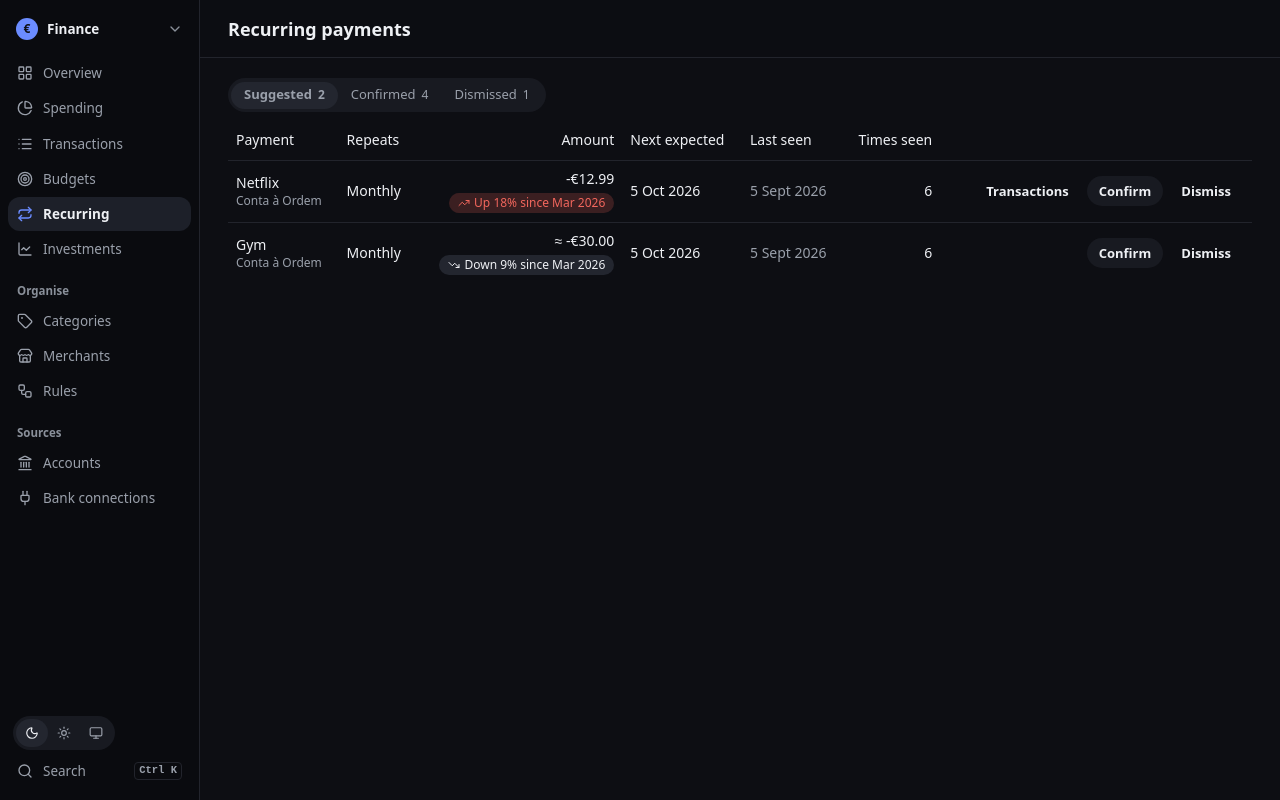
Test case: starts on the suggestions and filters by tab, with counts
The width and height of the screenshot is (1280, 800).
expect the button "Netflix" is shown: met, box [236, 173, 279, 193]
expect the button "Gym" is shown: met, box [236, 235, 266, 255]
Press the mouse on the tab "Confirmed 4" at [390, 95], box [338, 82, 442, 108]
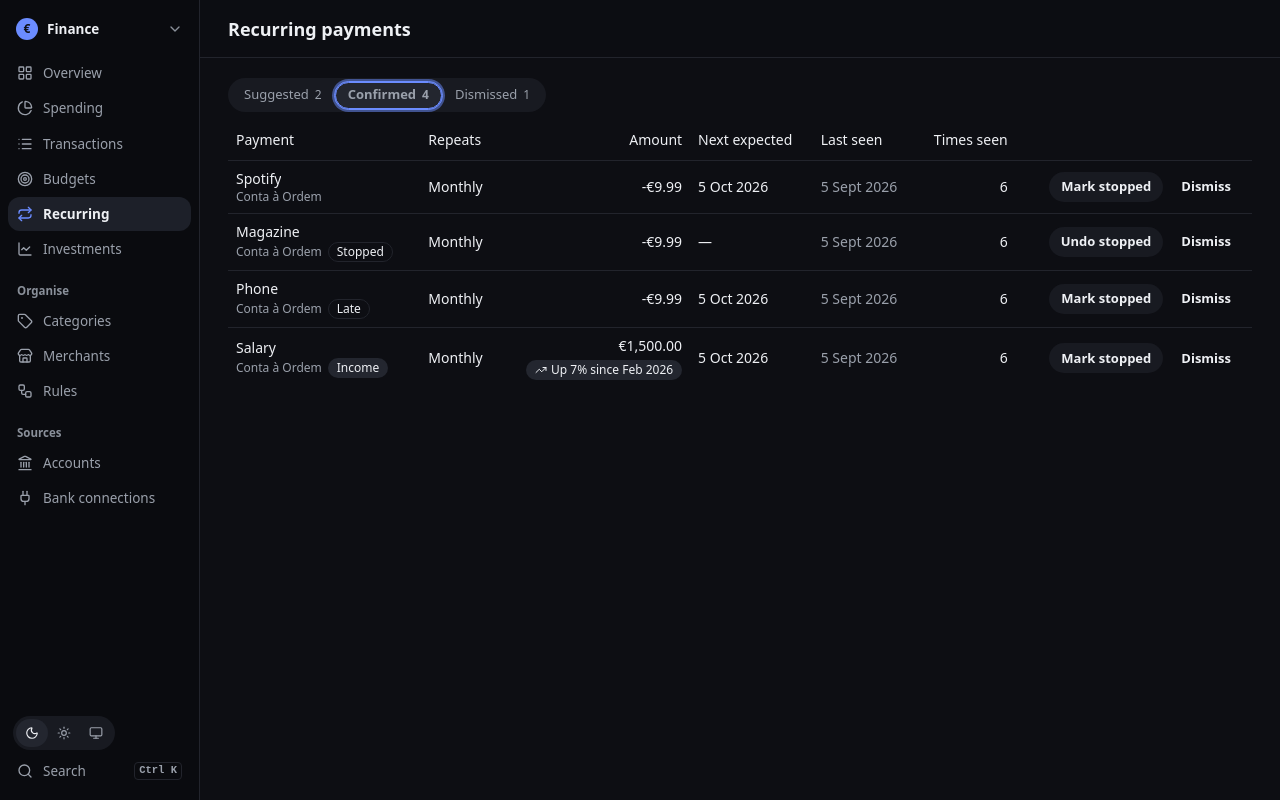
expect the button "Spotify" is shown: met, box [236, 168, 281, 188]
expect the button "Netflix" is gone: met
Press the mouse on the tab "Dismissed 1" at [493, 95], box [442, 82, 543, 108]
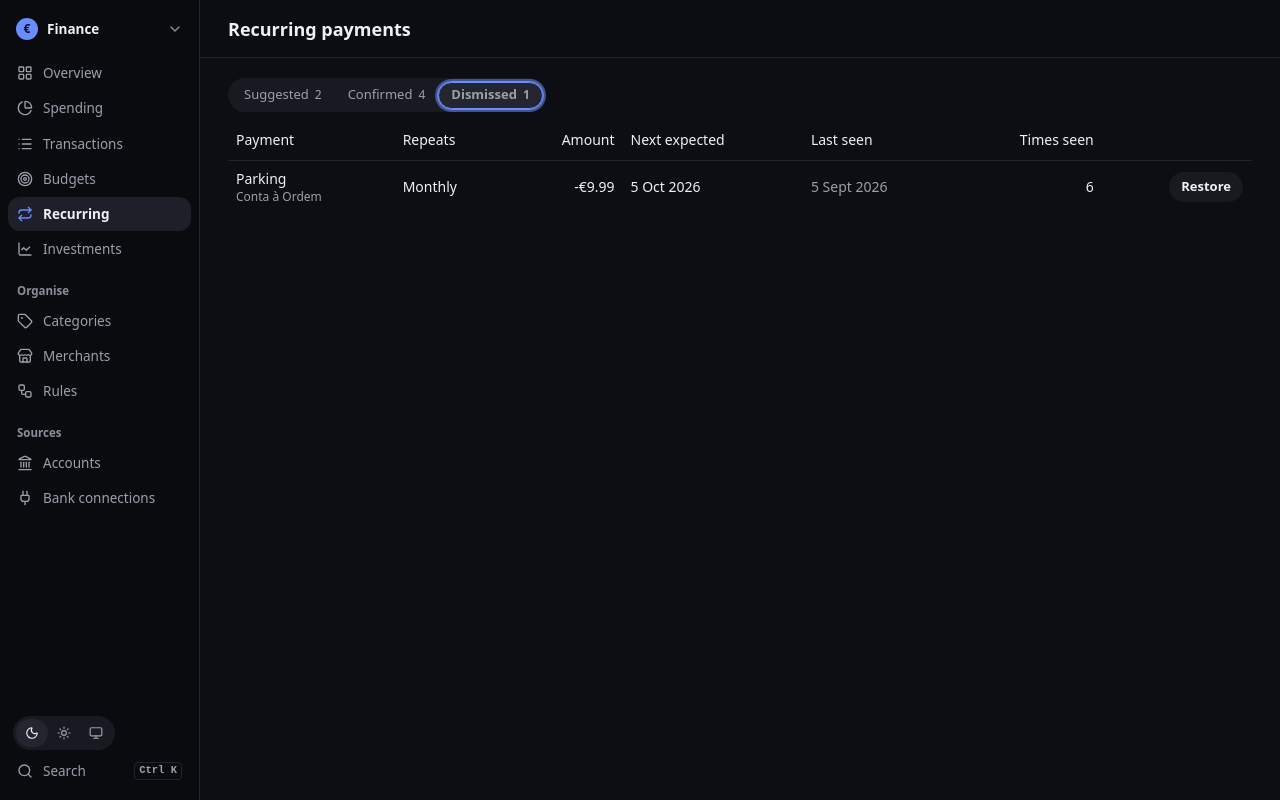
expect the button "Parking" is shown: met, box [236, 168, 286, 188]
expect the button "Spotify" is gone: met
